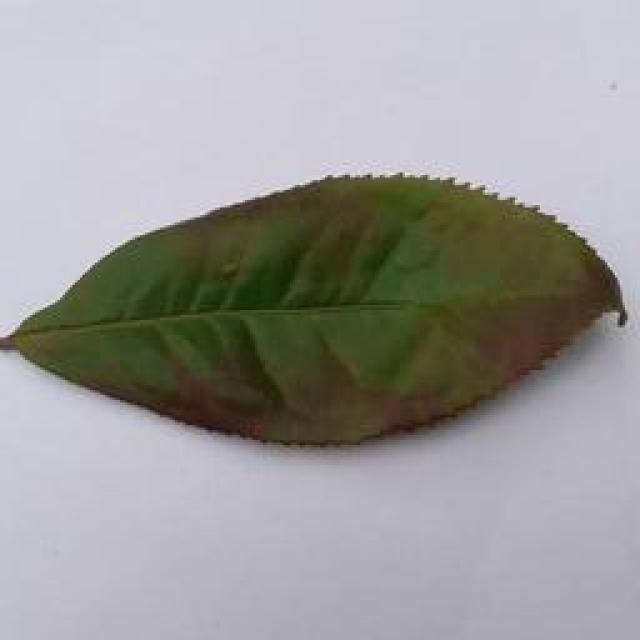Red Leaf Spot: (0, 130, 640, 447)
